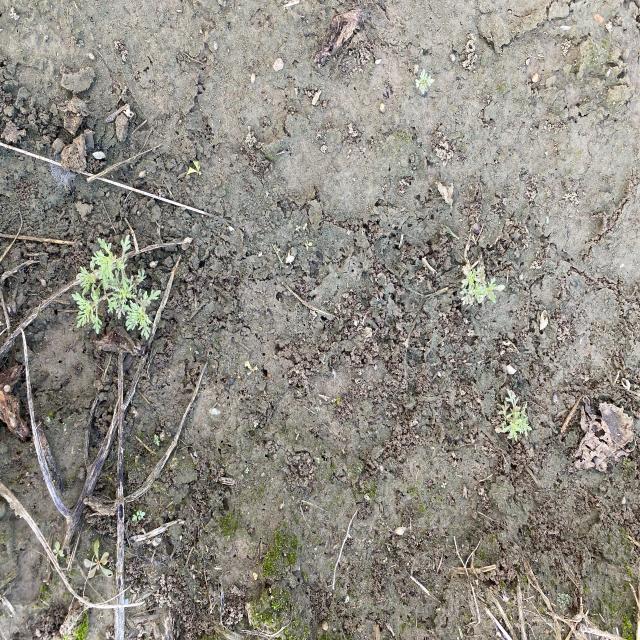Carpetweed: (81, 540, 115, 580)
Ragweed: (71, 234, 162, 342), (457, 260, 508, 308), (493, 388, 534, 445), (413, 68, 434, 96)
